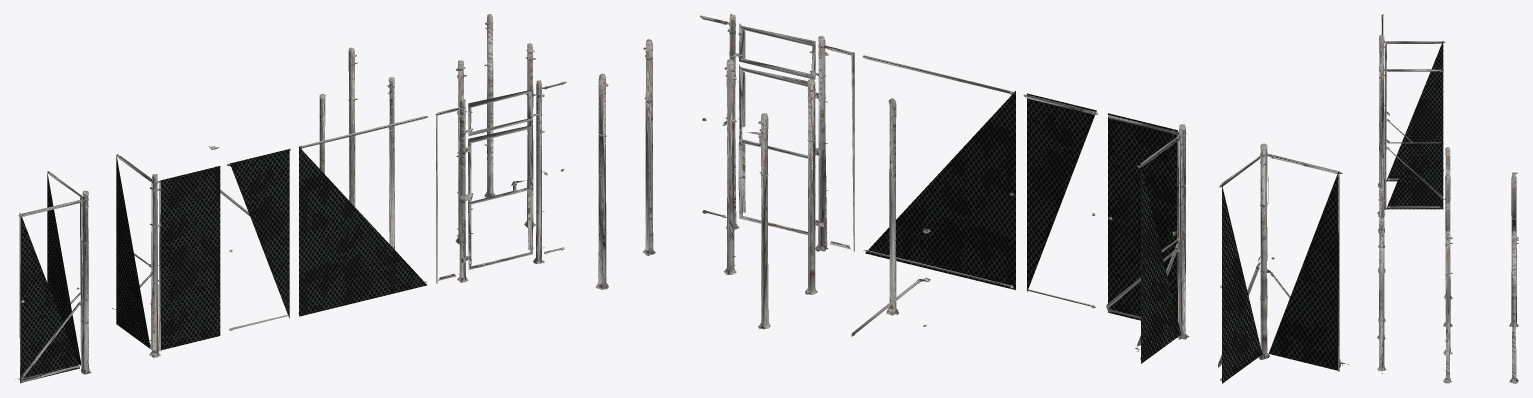
The model's file is fence-chainlink.lite.c13a284d.glb.
The picture shows the model from 3 angles, left to right: view 1: azimuth 30°, elevation 25°; view 2: azimuth 150°, elevation 25°; view 3: azimuth 270°, elevation 25°; orthographic projection. The views are drawn at different scales.
Parts seen in each view (by area): view 1: model; view 2: model; view 3: model.
Part boxes in pixels (box(x1,y1,x2,y2)): model: box(15, 14, 566, 383); model: box(595, 14, 1348, 383); model: box(1377, 14, 1518, 383).
Size of the model in its own units: 8.11 by 2.52 by 2.14.
2 materials, 2 textured.
